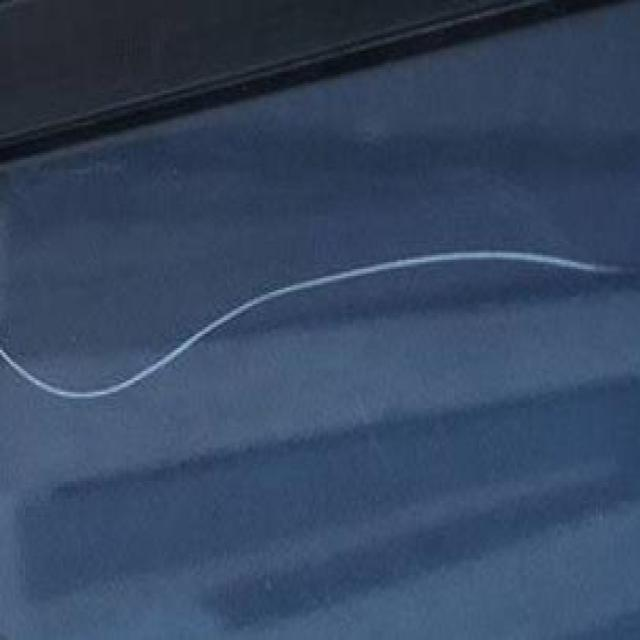scratch: (0, 238, 637, 409)
